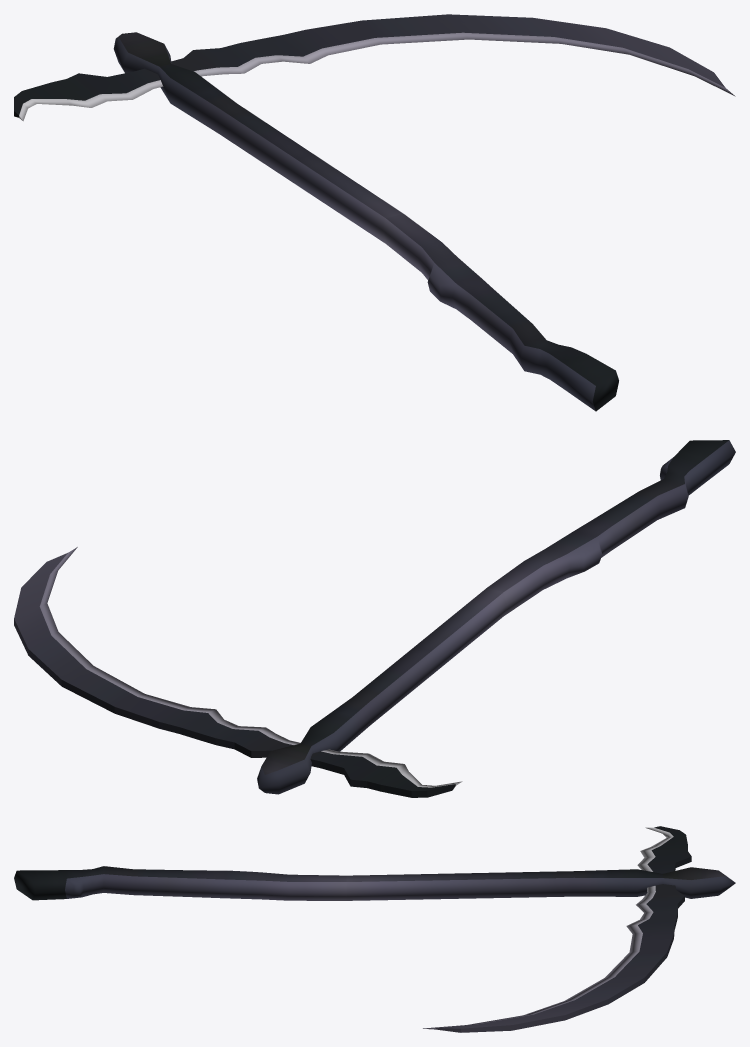
The model's file is schythe2.fbx.
3 renders of one model, top to bottom at view 1: azimuth 30°, elevation 25°; view 2: azimuth 150°, elevation 25°; view 3: azimuth 270°, elevation 25°, orthographic. The views are drawn at different scales.
Parts seen in each view (by area): view 1: sword3h06; view 2: sword3h06; view 3: sword3h06.
Part boxes in pixels (x1,y1,x2,y2): sword3h06: (14,14,735,411); sword3h06: (14,440,735,797); sword3h06: (14,826,735,1032).
Size of the model in its own units: 53.25 by 2.5 by 80.
